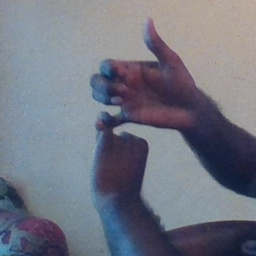S: (88, 16, 191, 169)
